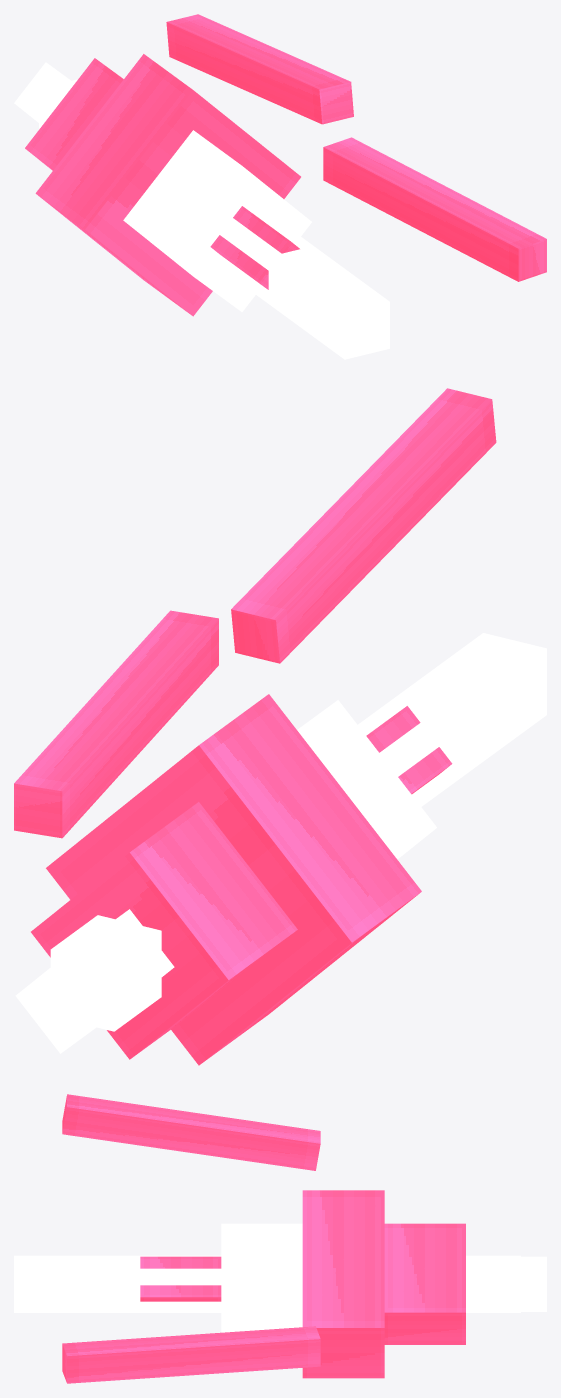
The model's file is tower_shot_red.gltf.
3 renders of one model, top to bottom at view 1: azimuth 30°, elevation 25°; view 2: azimuth 150°, elevation 25°; view 3: azimuth 270°, elevation 25°, orthographic. The views are drawn at different scales.
Visible parts, largest first — view 1: core_mesh; view 2: core_mesh; view 3: core_mesh.
Part boxes in pixels (left/top/right/bottom): core_mesh: left=14, top=14, right=546, bottom=359; core_mesh: left=14, top=388, right=546, bottom=1065; core_mesh: left=14, top=1094, right=546, bottom=1383.
Bounding box in the file's own units: 0.3775 × 0.3775 × 0.6569.
Materials: 1 (1 with a texture image).
